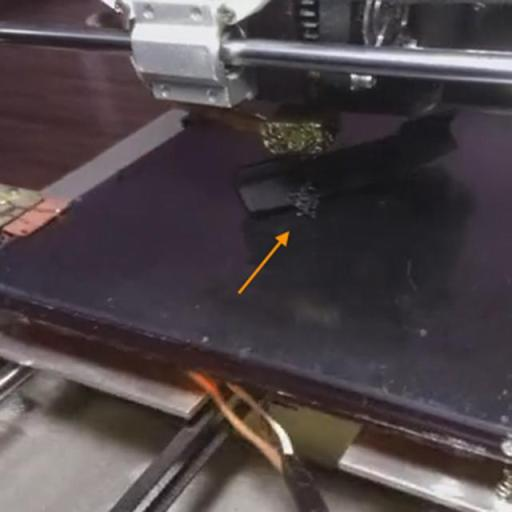spaghetti: (285, 181, 322, 219)
